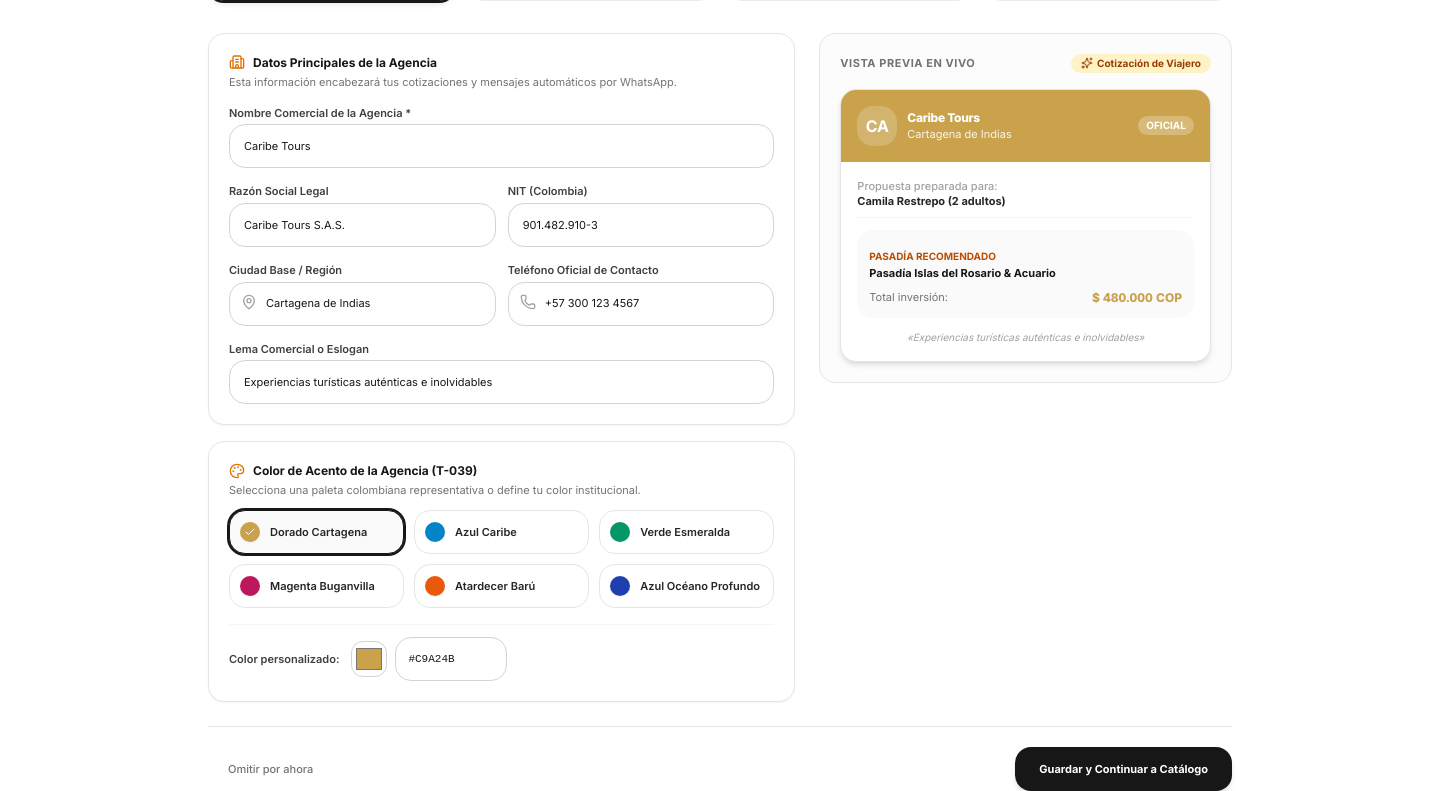
Test case: AsistenteOnboarding — Orquestador de 4 Pasos (T-105) › 2. Permite avanzar de Paso 1 a Paso 2 al guardar la marca
(page scrolled)
Click the button with test id "btn-guardar-paso-marca": click(1124, 769) [1015,747,1232,790]
(page scrolled)
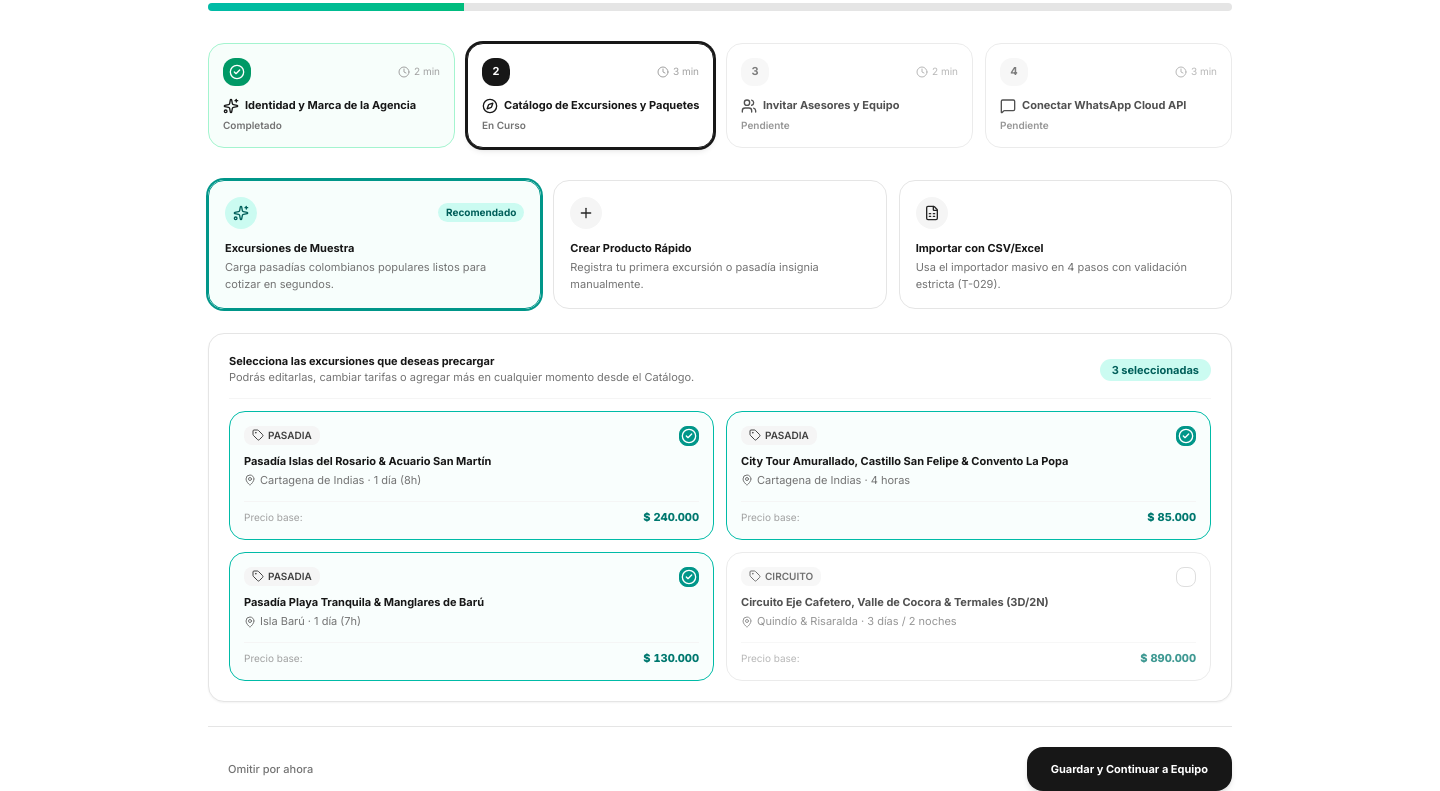
Expected: the form with test id "paso-catalogo-form" is shown, [208,180,1232,790]
